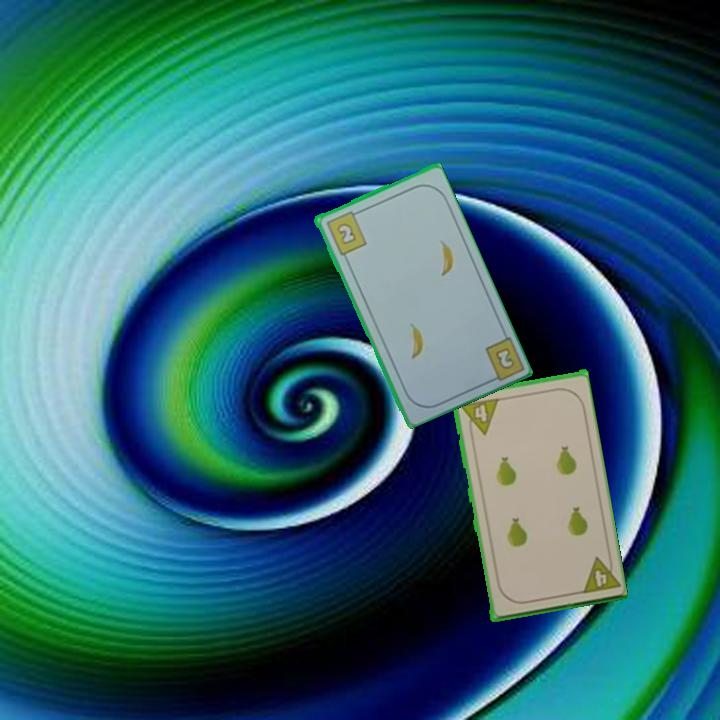2b: (322, 207, 369, 258), (491, 344, 515, 370)
4p: (456, 394, 501, 439), (576, 551, 621, 596)
